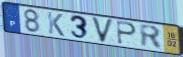3: (69, 14, 91, 41)
8: (23, 8, 43, 34)
K: (46, 11, 66, 38)
P: (115, 20, 138, 46)
R: (138, 23, 164, 51)
V: (90, 16, 115, 44)
